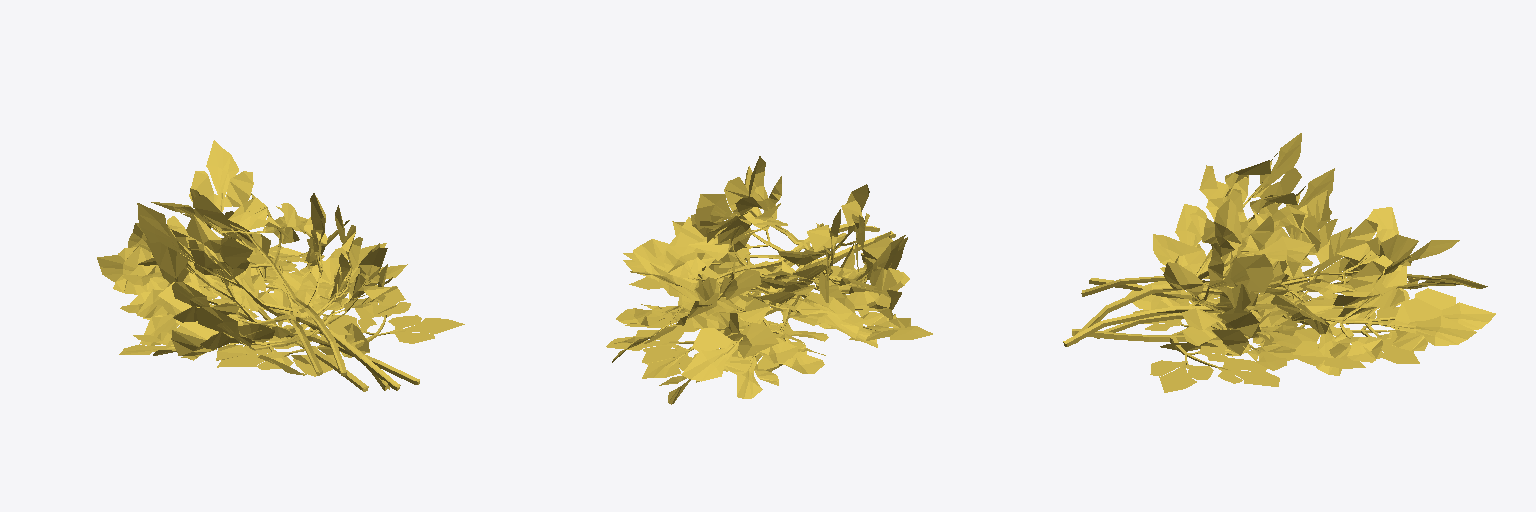
3 views of the same model, side by side, from view 1: azimuth 30°, elevation 25°; view 2: azimuth 150°, elevation 25°; view 3: azimuth 270°, elevation 25° (orthographic).
Visible parts, largest first — view 1: Parsley_06, Parsley_05, Parsley_03, Parsley_04, Parsley_02, Parsley_01; view 2: Parsley_05, Parsley_06, Parsley_04, Parsley_01, Parsley_03, Parsley_02; view 3: Parsley_04, Parsley_06, Parsley_05, Parsley_02, Parsley_03, Parsley_01.
Boxes of the visible parts, x1=… form: Parsley_06: x1=137, y1=140, x2=347, y2=375; Parsley_05: x1=118, y1=188, x2=400, y2=390; Parsley_03: x1=97, y1=233, x2=419, y2=384; Parsley_04: x1=145, y1=205, x2=387, y2=375; Parsley_02: x1=186, y1=244, x2=464, y2=390; Parsley_01: x1=119, y1=249, x2=377, y2=391; Parsley_05: x1=623, y1=221, x2=905, y2=381; Parsley_06: x1=630, y1=156, x2=879, y2=307; Parsley_04: x1=612, y1=166, x2=895, y2=362; Parsley_01: x1=642, y1=217, x2=932, y2=404; Parsley_03: x1=623, y1=223, x2=909, y2=398; Parsley_02: x1=606, y1=233, x2=871, y2=378; Parsley_04: x1=1089, y1=168, x2=1476, y2=362; Parsley_06: x1=1081, y1=133, x2=1459, y2=311; Parsley_05: x1=1075, y1=181, x2=1487, y2=348; Parsley_02: x1=1072, y1=292, x2=1427, y2=392; Parsley_03: x1=1063, y1=204, x2=1459, y2=370; Parsley_01: x1=1097, y1=276, x2=1495, y2=375.
Size of the model in its own units: 80.93 by 37.7 by 100.